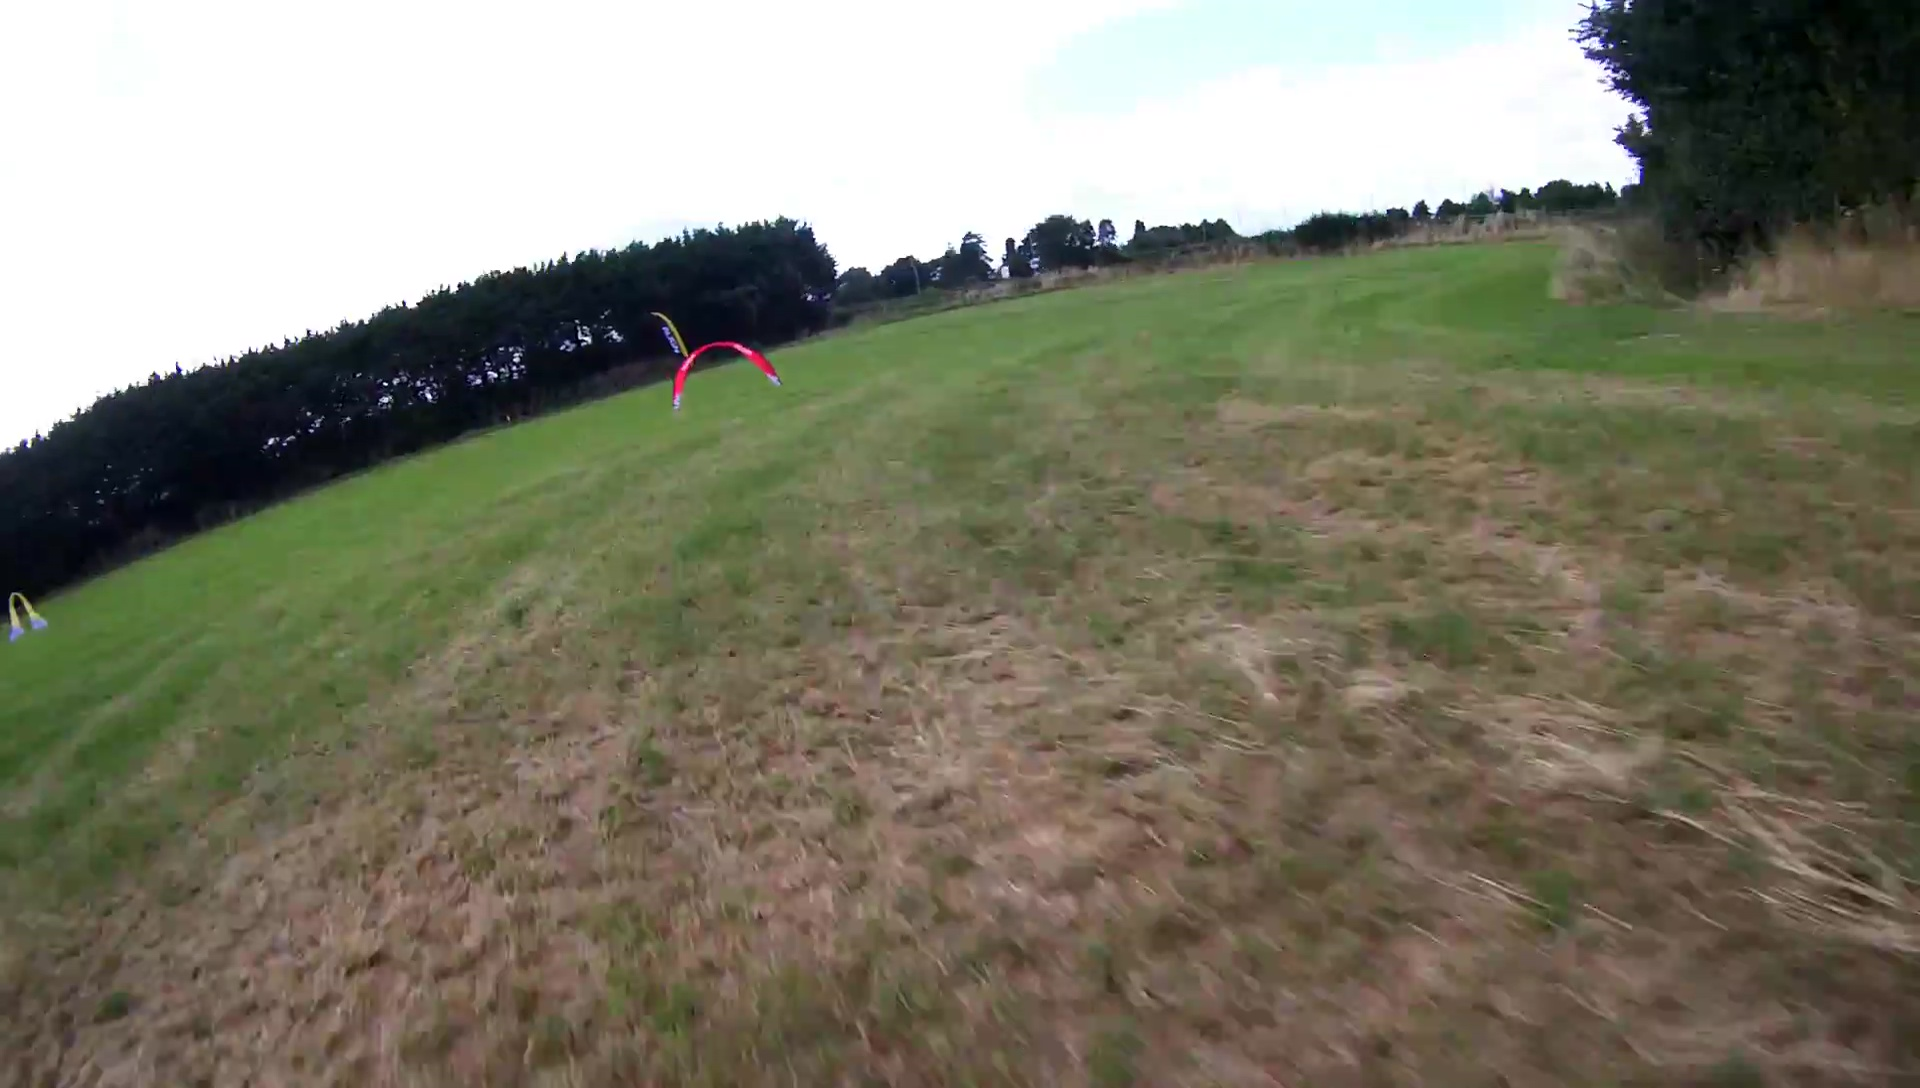gate: (671, 340, 782, 411), (4, 588, 49, 642)
